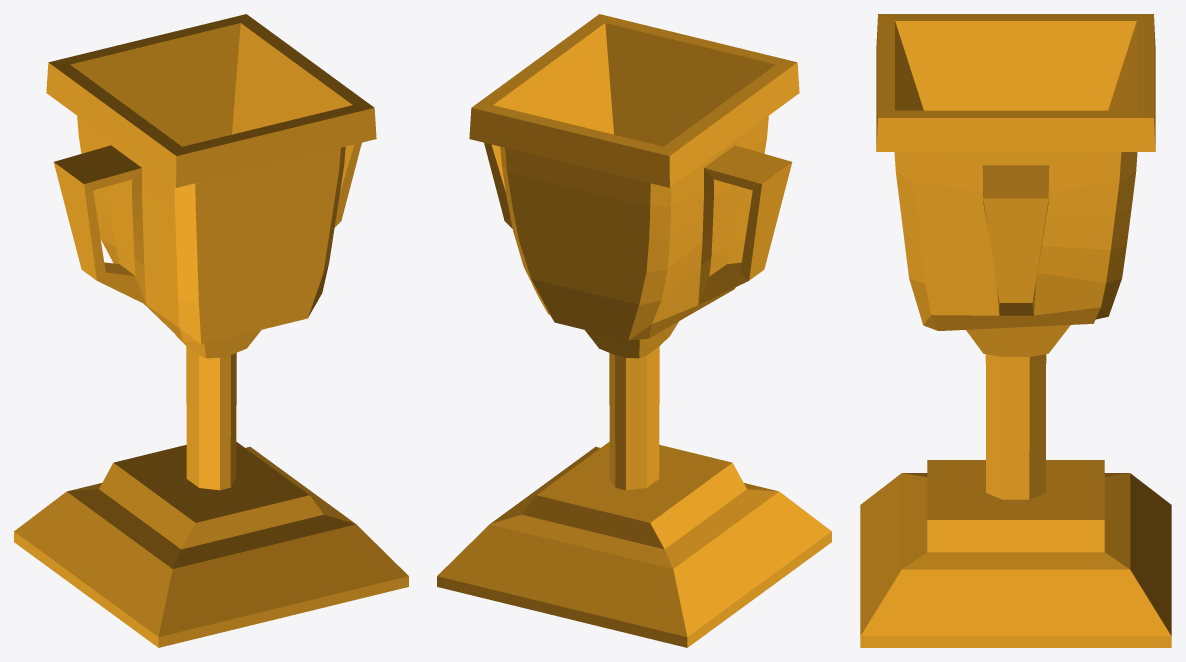
Rendered from Trophy 1.fbx.
3 views of the same model, side by side, from view 1: azimuth 30°, elevation 25°; view 2: azimuth 150°, elevation 25°; view 3: azimuth 270°, elevation 25° (orthographic). The views are drawn at different scales.
Parts seen in each view (by area): view 1: Node 0; view 2: Node 0; view 3: Node 0.
Boxes of the visible parts, left/top/right/bottom form: Node 0: left=14, top=14, right=408, bottom=647; Node 0: left=437, top=14, right=831, bottom=647; Node 0: left=860, top=14, right=1171, bottom=647.
Size of the model in its own units: 0.1696 by 0.3106 by 0.1934.
